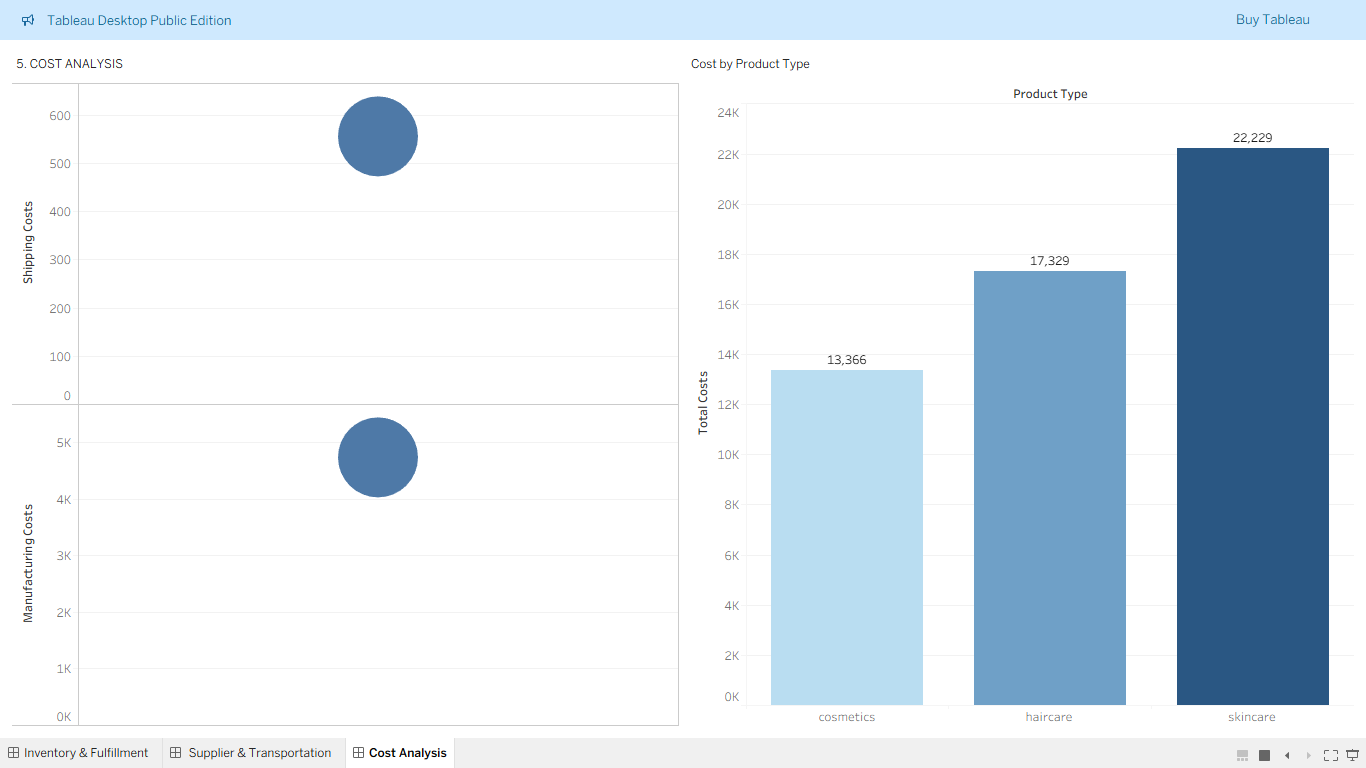

The page's visual inventory and layout, read from the dashboard file:
{"tool":"tableau","page":{"name":"Cost Analysis","canvas":[1000,1000],"units":"permille","ordinal":1},"visuals":[{"type":"worksheet","title":"Cost Breakdown (Pie Chart)","mark":"Pie","rows":["ShippingCosts","ManufacturingCosts"],"box":[6.9,14.5,493.1,971]},{"type":"worksheet","title":" Cost by Product Type","mark":"Automatic","rows":["TotalCosts"],"cols":["ProductType"],"box":[500,14.5,493.1,971]}]}

Visuals, with their boxes on the dashboard's canvas, which has no fixed pixel size, in thousandths of its width and height (x1, y1, x2, y2). These are canvas units, not pixel positions in the 1366x768 screenshot, which may show the page scaled, cropped or inside an application window:
"Cost Breakdown (Pie Chart)" worksheet (Pie marks): 7:14:500:986
" Cost by Product Type" worksheet: 500:14:993:986
